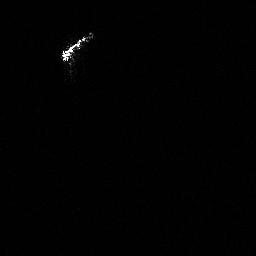ship: (58, 29, 98, 66)
